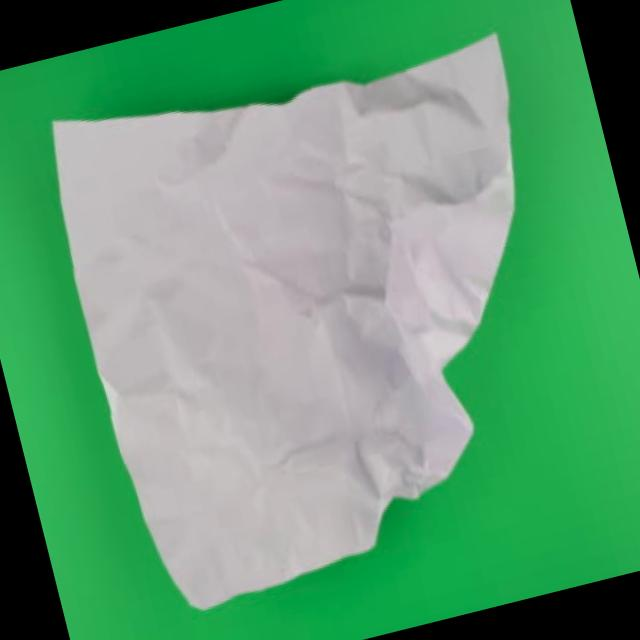KertasBekas: (34, 12, 617, 626)
